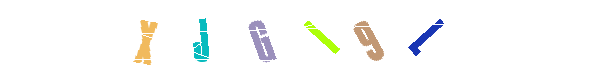1: (255, 0, 335, 80)
9: (282, 0, 362, 80)
G: (223, 0, 303, 80)
J: (221, 0, 301, 80)
L: (384, 0, 464, 80)
X: (162, 0, 242, 80)
